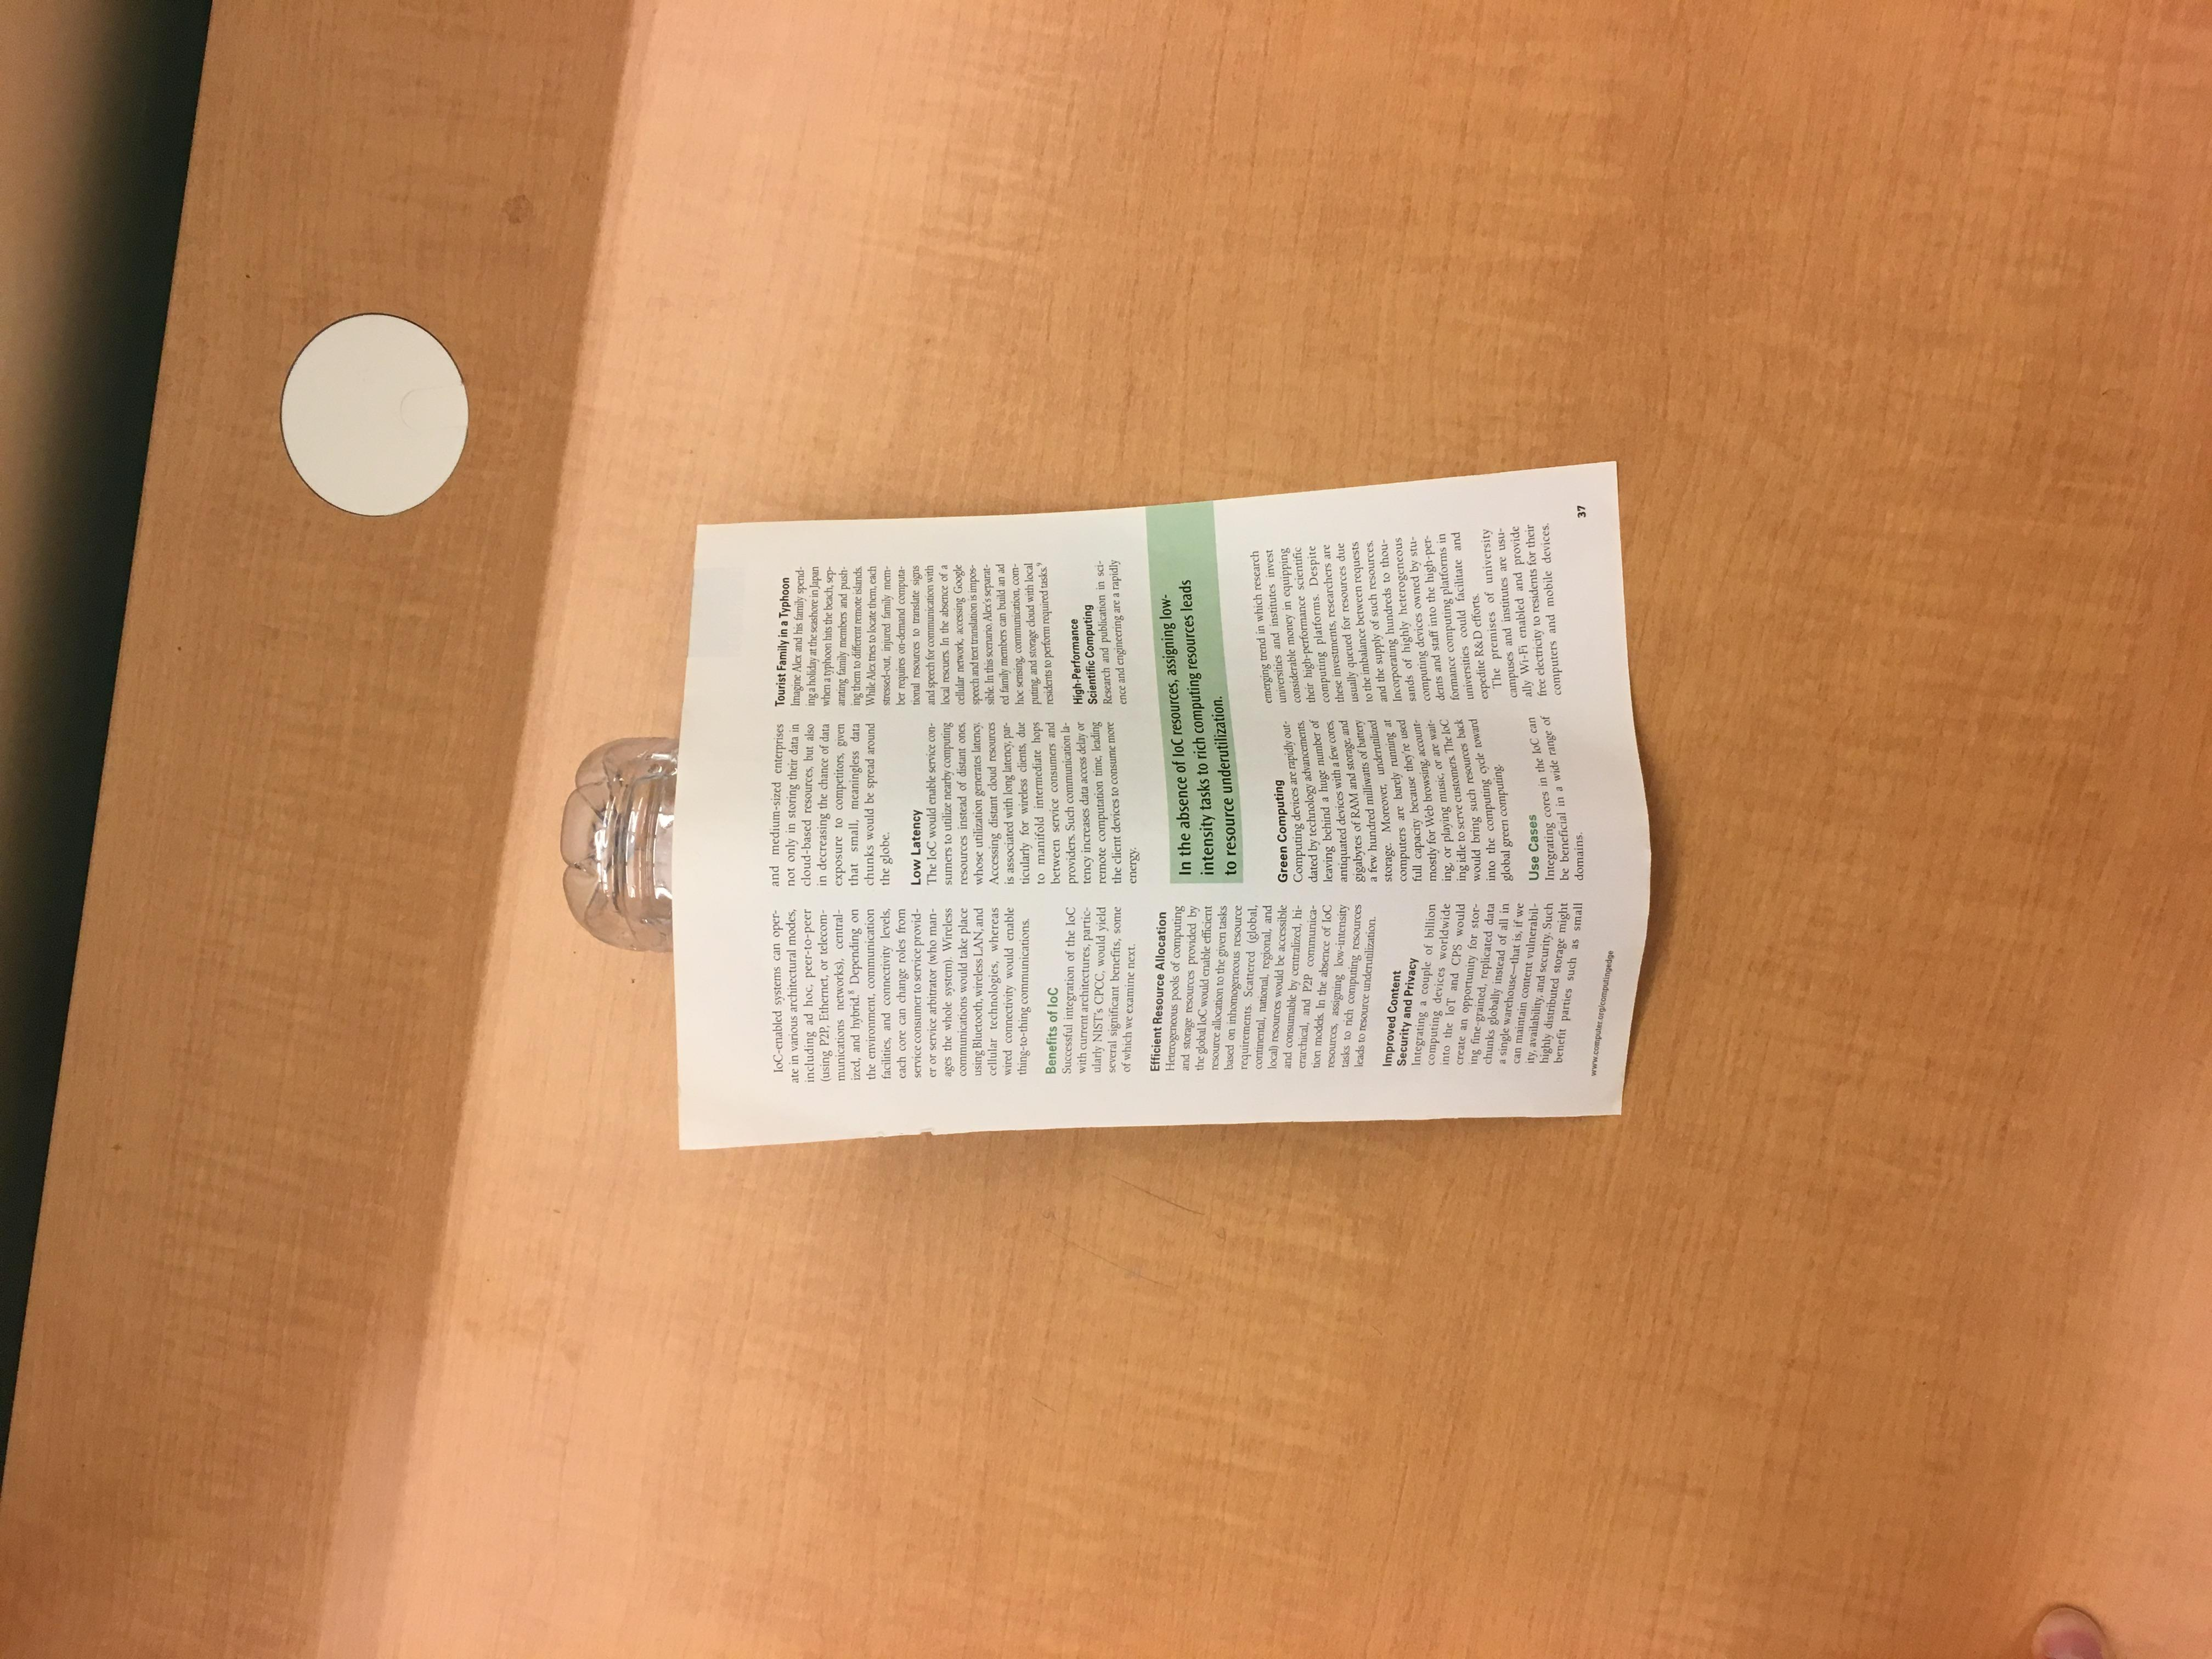paper: (509, 343, 1784, 1419)
